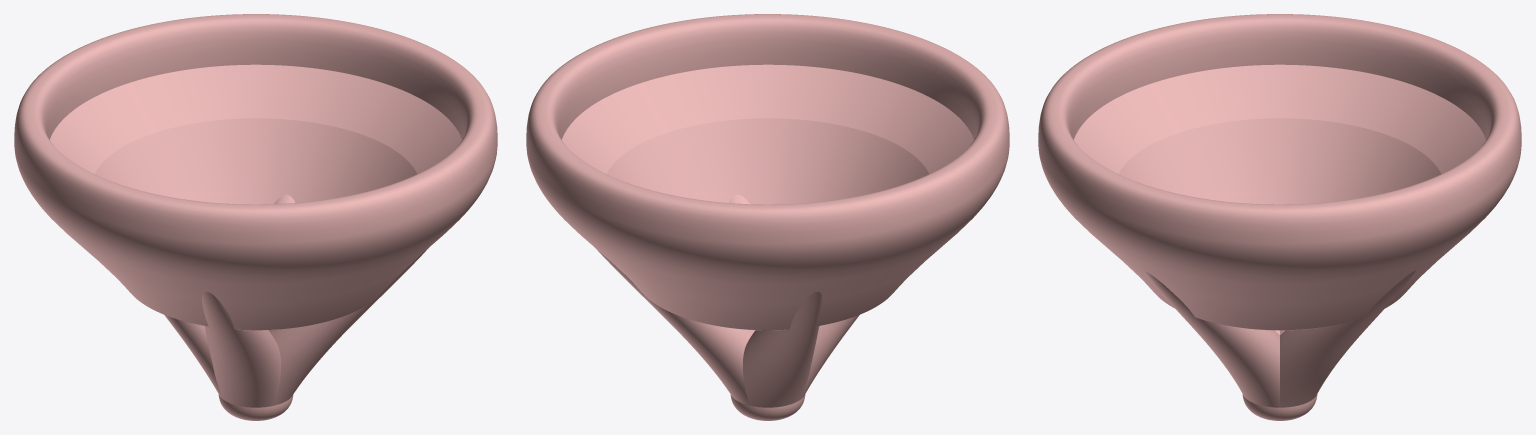
File: Bezel.glb
3 renders of one model, left to right at view 1: azimuth 30°, elevation 25°; view 2: azimuth 150°, elevation 25°; view 3: azimuth 270°, elevation 25°, orthographic.
Parts seen in each view (by area): view 1: ROUND.001; view 2: ROUND.001; view 3: ROUND.001.
Boxes of the visible parts, x1,y1,x2,y2 form: ROUND.001: (14,14,497,420); ROUND.001: (526,14,1009,420); ROUND.001: (1038,14,1521,420).
Size of the model in its own units: 5.8 by 4.01 by 5.8.
